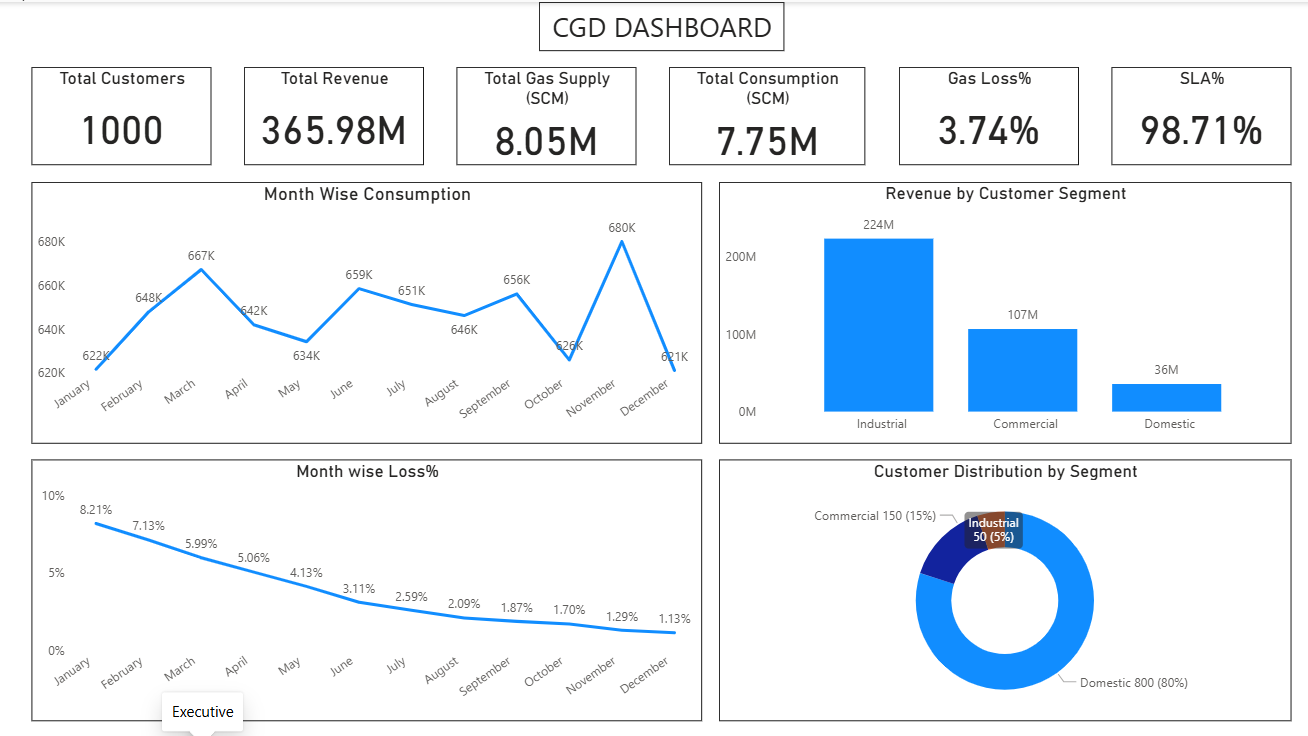

Layout of this report page (visuals, bound fields, positions):
{"tool":"powerbi","page":{"name":"Executive","canvas":[1280,720],"ordinal":0},"visuals":[{"type":"card","title":"Total Customers","fields":{"Values":["Customers.Total_customers"]},"box":[32,64,176,96],"z":0},{"type":"card","title":"Total Revenue","fields":{"Values":["Consumptions.Total_Revenue"]},"box":[240,64,176,96],"z":1000},{"type":"card","title":"Total Gas Supply (SCM)","fields":{"Values":["FRS.Total_Gas_input"]},"box":[448,64,176,96],"z":2000},{"type":"card","title":"Total Consumption (SCM)","fields":{"Values":["Consumptions.Total_consumption"]},"box":[656,64,192,96],"z":3000},{"type":"card","title":"SLA%","fields":{"Values":["Complaints.SLA%"]},"box":[1088,64,176,96],"z":4000},{"type":"columnChart","title":"Revenue by Customer Segment","fields":{"Y":["Consumptions.Total_Revenue"],"Category":["Customers.Customer_Type"]},"box":[704,176,560,256],"z":5000},{"type":"donutChart","title":"Customer Distribution by Segment","fields":{"Y":["Customers.Total_customers"],"Category":["Customers.Customer_Type"]},"box":[704,448,560,256],"z":6000},{"type":"lineChart","title":"Month wise Loss%","fields":{"Y":["FRS.Loss"],"Category":["Calendar.Month"]},"box":[32,448,656,256],"z":7000},{"type":"card","title":"Gas Loss%","fields":{"Values":["FRS.Loss"]},"box":[880,64,176,96],"z":8000},{"type":"lineChart","title":"Month Wise Consumption","fields":{"Category":["Calendar.Month"],"Y":["Consumptions.Total_consumption"]},"box":[32,176,656,256],"z":9000},{"type":"textbox","box":[528,0,240,48],"z":10000}]}

Visuals, with their boxes in screenshot pixels (x1, y1, x2, y2), scaled from the page's 1280x720 canvas onto the 1308x736 screenshot:
"Total Customers" card: locate(33, 65, 213, 164)
"Total Revenue" card: locate(245, 65, 425, 164)
"Total Gas Supply (SCM)" card: locate(458, 65, 638, 164)
"Total Consumption (SCM)" card: locate(670, 65, 867, 164)
"SLA%" card: locate(1112, 65, 1292, 164)
"Revenue by Customer Segment" columnChart: locate(719, 180, 1292, 442)
"Customer Distribution by Segment" donutChart: locate(719, 458, 1292, 720)
"Month wise Loss%" lineChart: locate(33, 458, 703, 720)
"Gas Loss%" card: locate(899, 65, 1079, 164)
"Month Wise Consumption" lineChart: locate(33, 180, 703, 442)
textbox: locate(540, 0, 785, 49)
